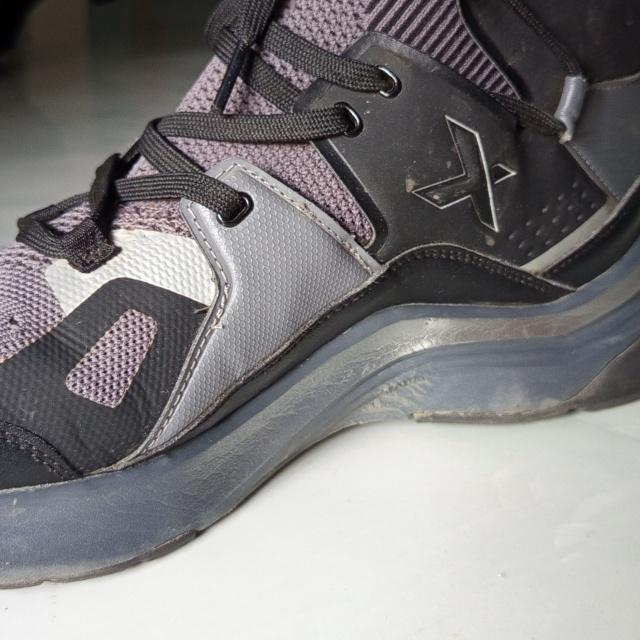broken-error: (296, 195, 318, 223)
